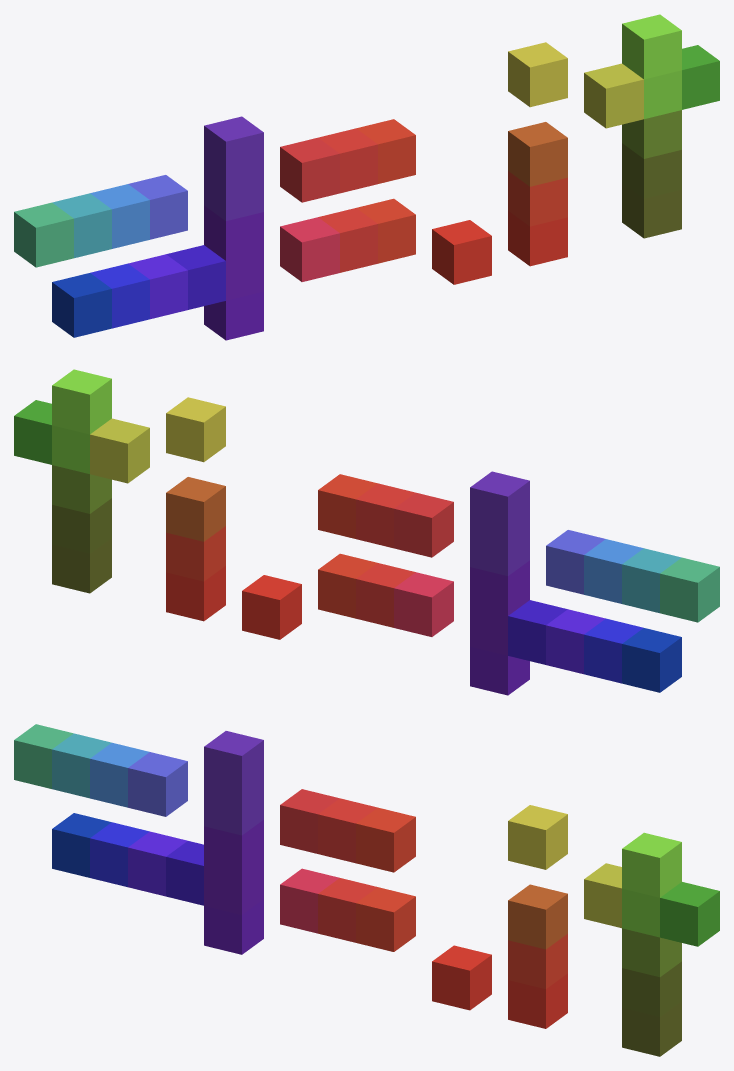
3 views of the same model, one above another, from view 1: azimuth 30°, elevation 25°; view 2: azimuth 150°, elevation 25°; view 3: azimuth 330°, elevation 25° (orthographic).
Visible parts, largest first — view 1: 3j4naBns6Sv.002; view 2: 3j4naBns6Sv.002; view 3: 3j4naBns6Sv.002.
Boxes of the visible parts, left/top/right/bottom form: 3j4naBns6Sv.002: left=14, top=14, right=719, bottom=340; 3j4naBns6Sv.002: left=14, top=369, right=719, bottom=695; 3j4naBns6Sv.002: left=14, top=724, right=719, bottom=1056.
Size of the model in its own units: 18 by 5 by 1.
Materials: 1 (1 with a texture image).
